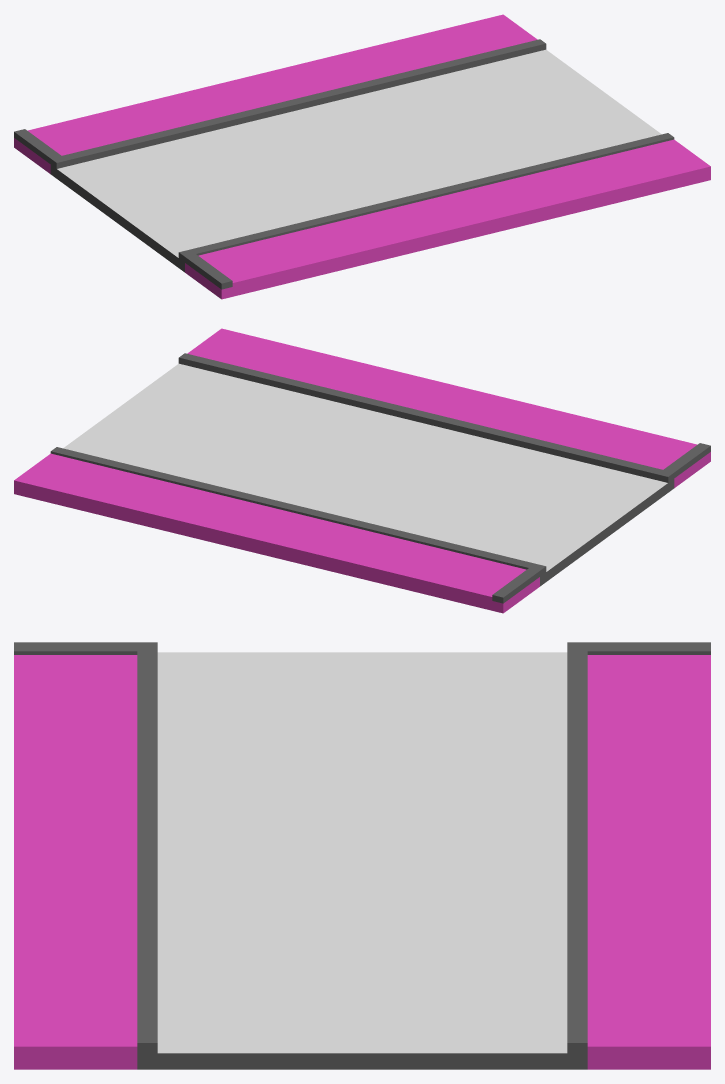
3 renders of one model, top to bottom at view 1: azimuth 30°, elevation 25°; view 2: azimuth 150°, elevation 25°; view 3: azimuth 270°, elevation 25°, orthographic. The views are drawn at different scales.
Visible parts, largest first — view 1: Cube.003; view 2: Cube.003; view 3: Cube.003.
Boxes of the visible parts, left/top/right/bottom form: Cube.003: left=14, top=14, right=710, bottom=299; Cube.003: left=14, top=328, right=710, bottom=613; Cube.003: left=14, top=642, right=710, bottom=1069.
Bounding box in the file's own units: 19862 × 616 × 14596.
